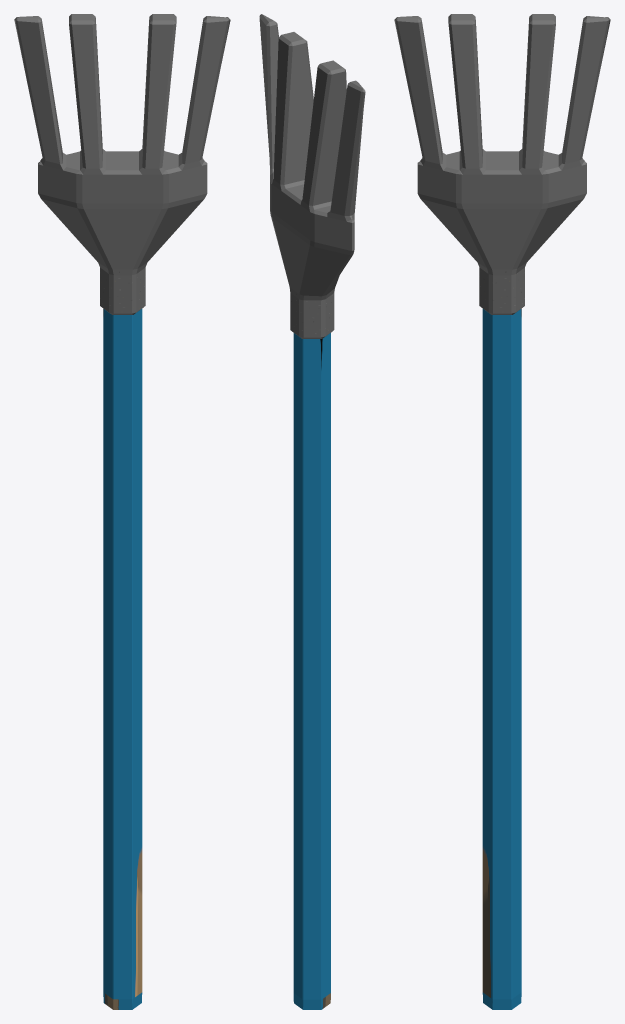
File: rake.fbx
The picture shows the model from 3 angles, left to right: view 1: azimuth 90°, elevation 25°; view 2: azimuth 210°, elevation 25°; view 3: azimuth 270°, elevation 25°; orthographic projection. The views are drawn at different scales.
Parts seen in each view (by area): view 1: Cylinder.001, Cylinder; view 2: Cylinder, Cylinder.001; view 3: Cylinder.001, Cylinder.
Part boxes in pixels (x1,y1,x2,y2): Cylinder.001: (14, 14, 230, 314); Cylinder: (103, 309, 142, 1009); Cylinder: (293, 333, 330, 1009); Cylinder.001: (259, 14, 365, 338); Cylinder.001: (394, 14, 610, 314); Cylinder: (482, 309, 521, 1009).
Size of the model in its own units: 259 by 5503 by 1094.
